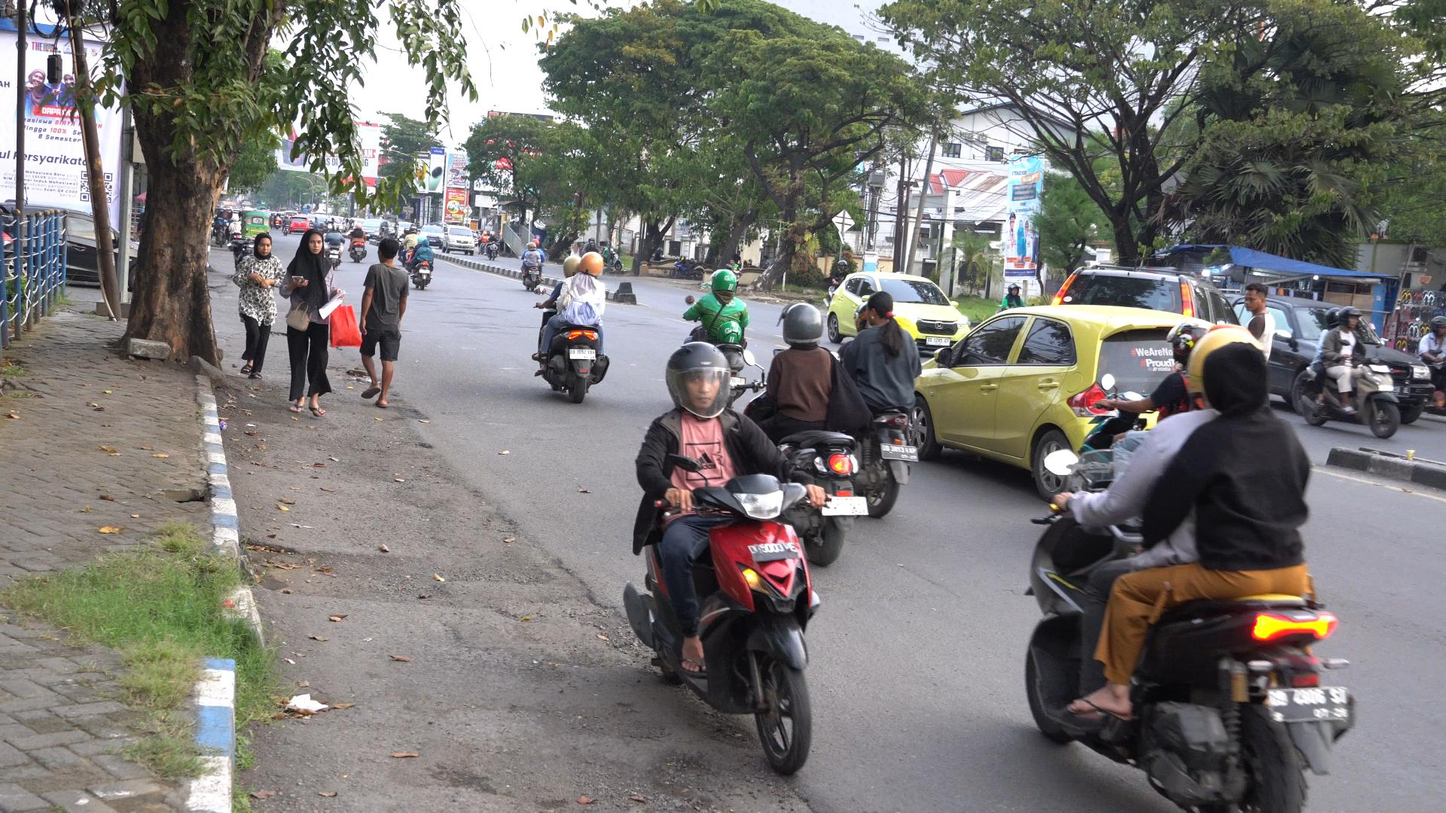number-plate: (749, 541, 799, 562)
